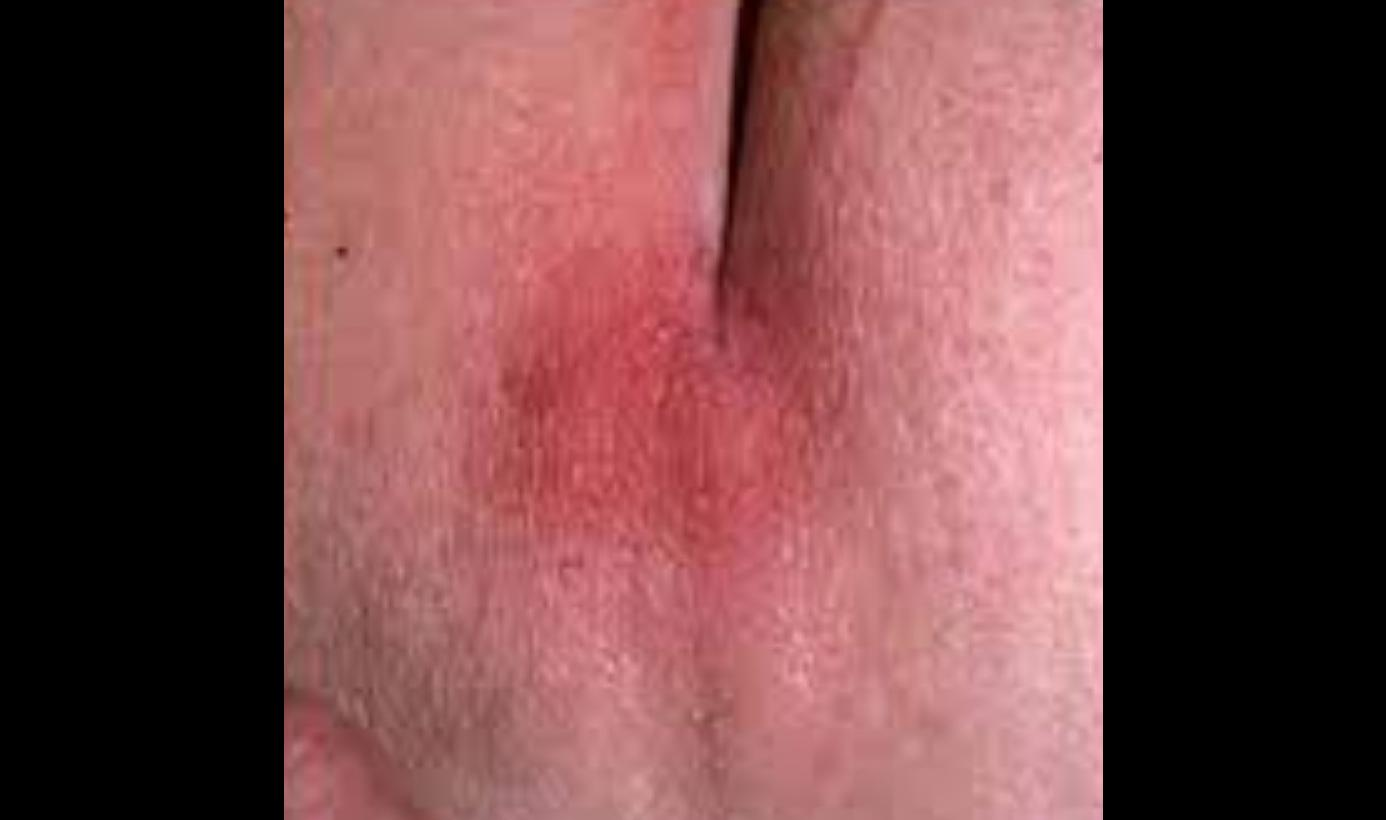Stage1: (393, 34, 990, 820)
